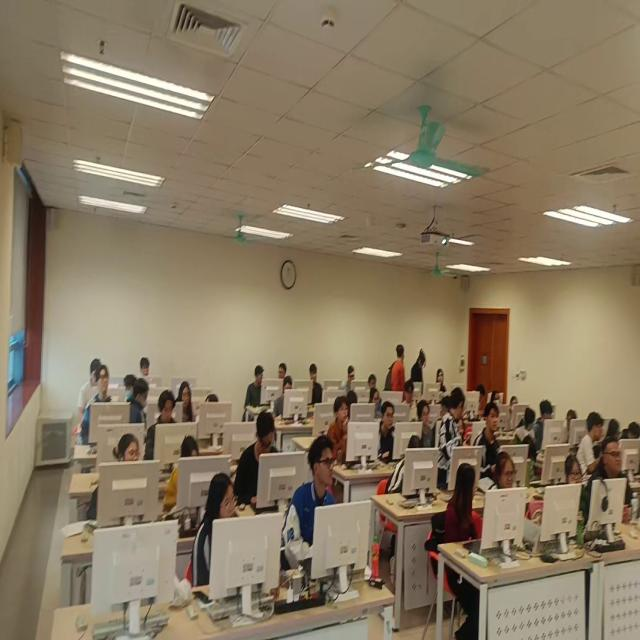raise_head: (284, 438, 340, 571), (193, 474, 239, 590), (585, 435, 633, 529), (90, 432, 140, 519), (82, 364, 113, 445), (475, 401, 502, 480), (327, 394, 354, 460), (378, 401, 397, 461), (369, 388, 383, 419), (139, 356, 152, 379), (309, 362, 320, 385), (437, 366, 446, 392), (492, 389, 502, 406)
stand: (439, 385, 466, 491), (384, 341, 407, 396), (413, 348, 428, 389)
using_computer: (236, 409, 281, 507), (162, 435, 204, 519), (145, 389, 178, 462), (388, 434, 427, 493), (564, 457, 587, 529), (80, 356, 104, 410), (274, 375, 295, 420), (416, 398, 434, 446), (177, 380, 194, 425), (347, 361, 358, 395), (404, 378, 415, 409), (474, 383, 486, 410), (368, 370, 379, 390), (511, 395, 521, 411)
